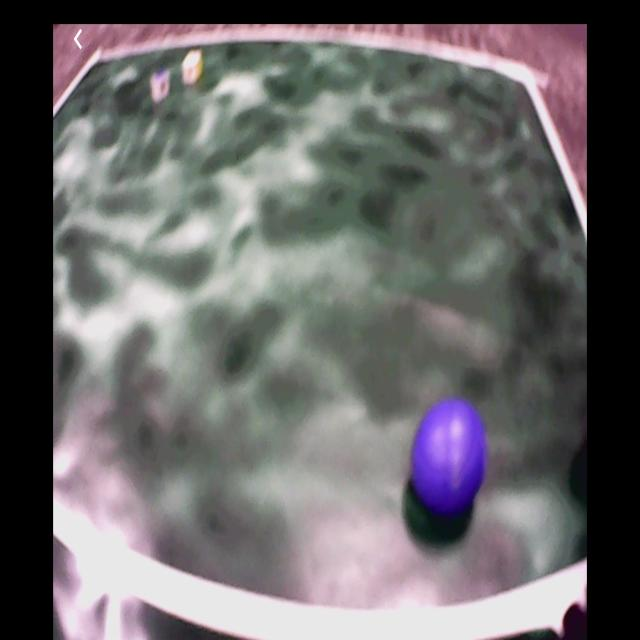ball: (414, 402, 485, 511)
